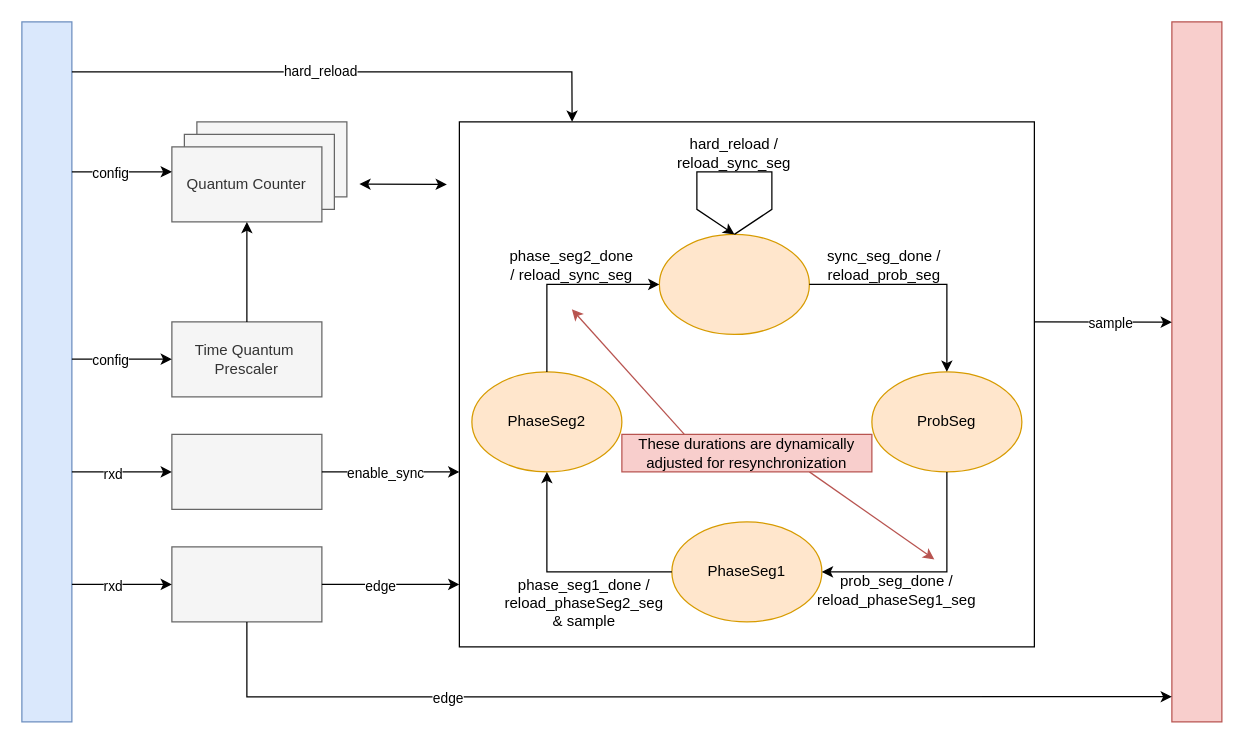
Some shapes in this 1244 by 744 pixel diagram are drawn without their labels. The shapes that lost their labels are listed below. From the top down, each one's centre as x and y in pixels, then its label:
At (733,283): "SyncSeg".
At (246,471): "Sample Validator".
At (246,584): "Edge Detect".
